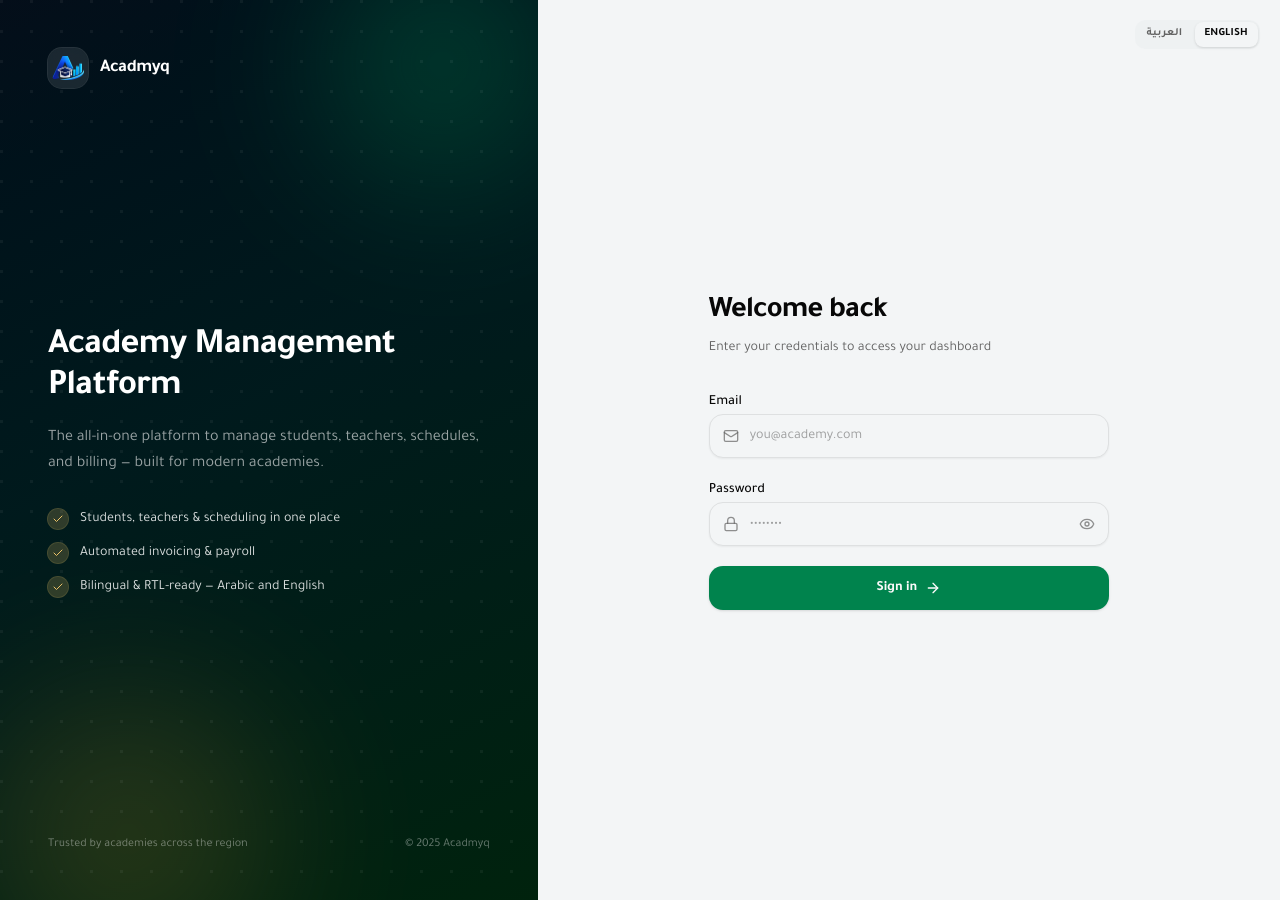
Test: LoginPage (TC-2.1 / TC-2.2) › shows a neutral error and does not redirect on bad credentials
The width and height of the screenshot is (1280, 900).
Type "owner@noor.test" into the field labelled "Email".
click(909, 436); type("owner@noor.test")  # box [709,414,1109,458]
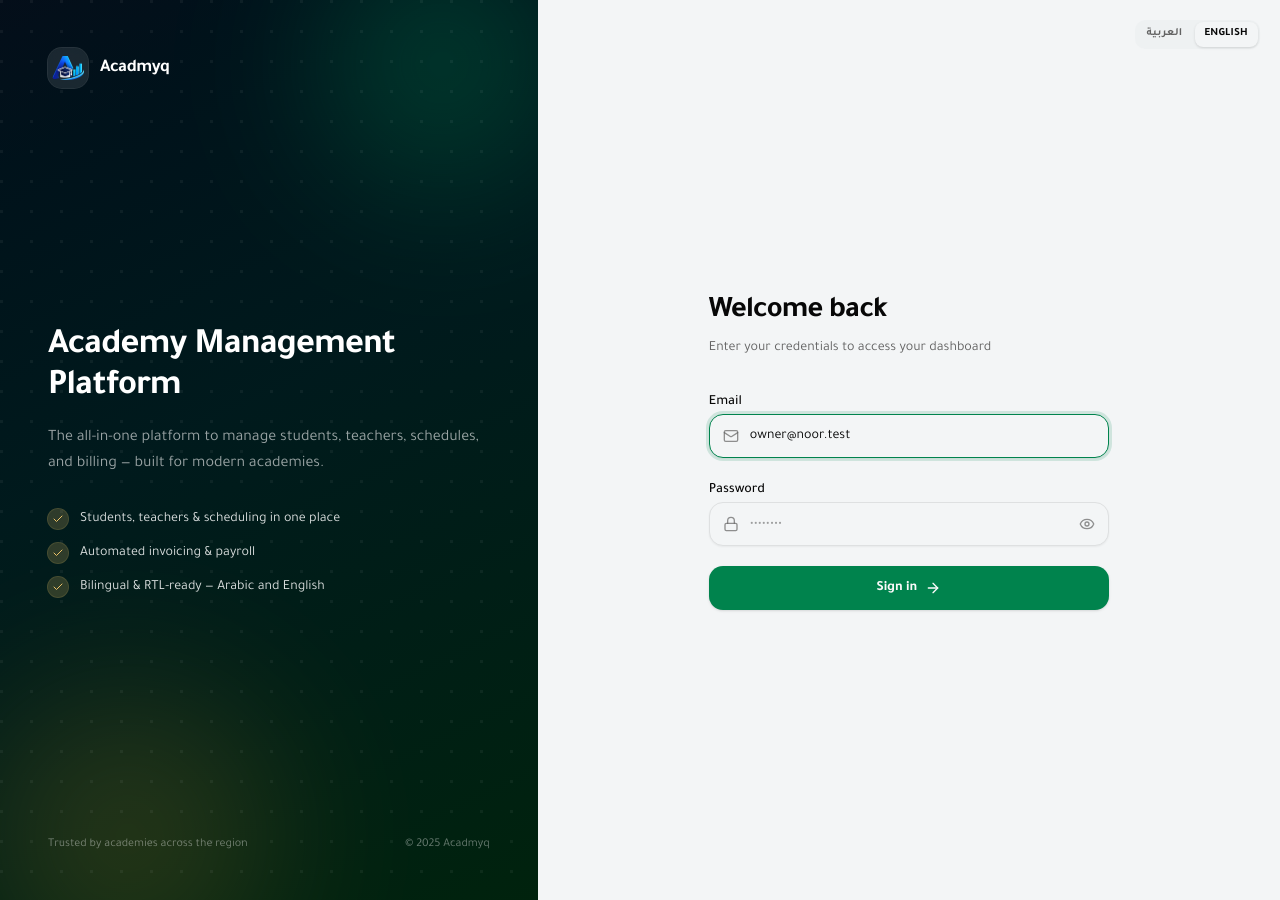
Type "wrong" into the password field labelled "Password".
click(909, 524); type("wrong")  # box [709,502,1109,546]
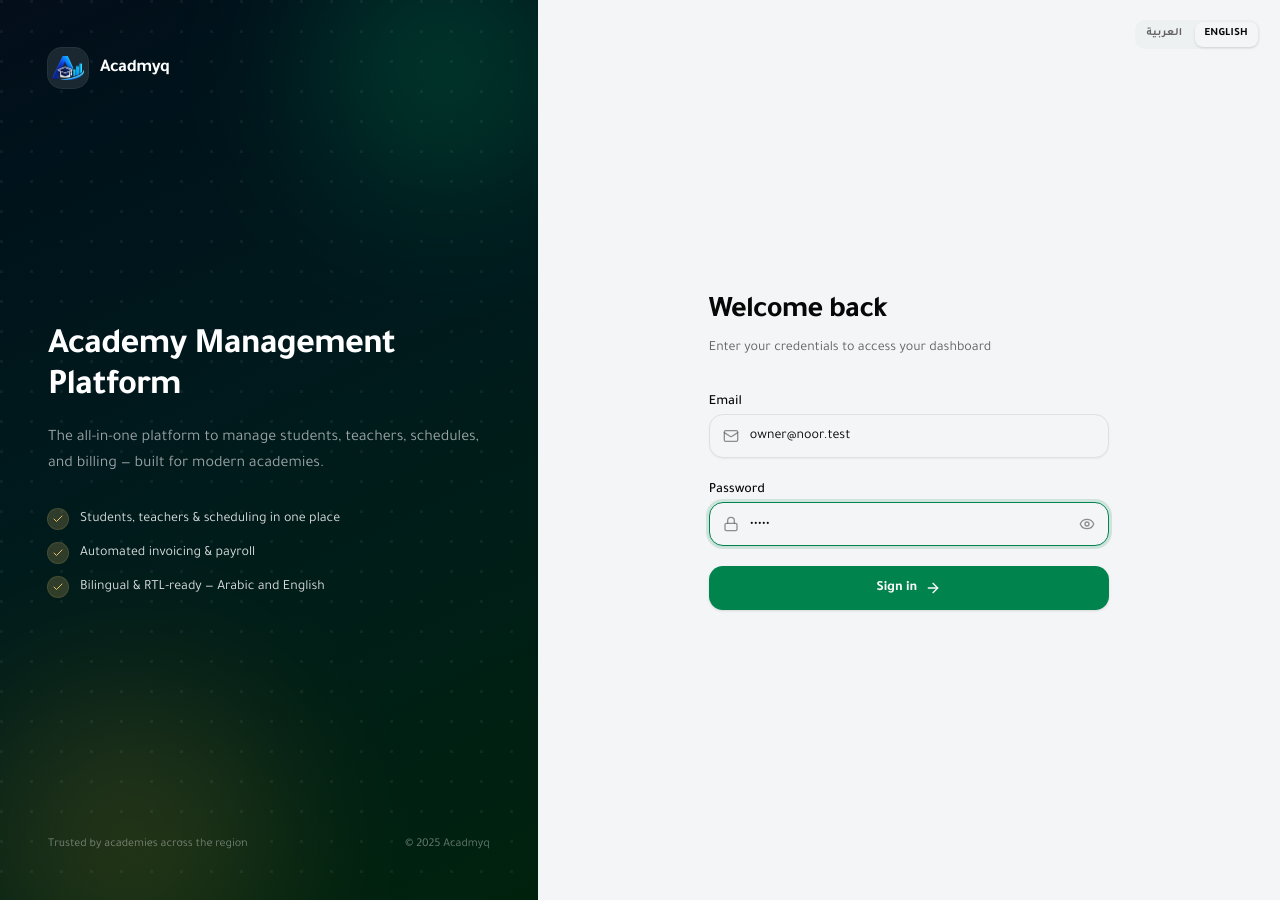
Click the button "Sign in".
click(909, 588)  # box [709,566,1109,610]
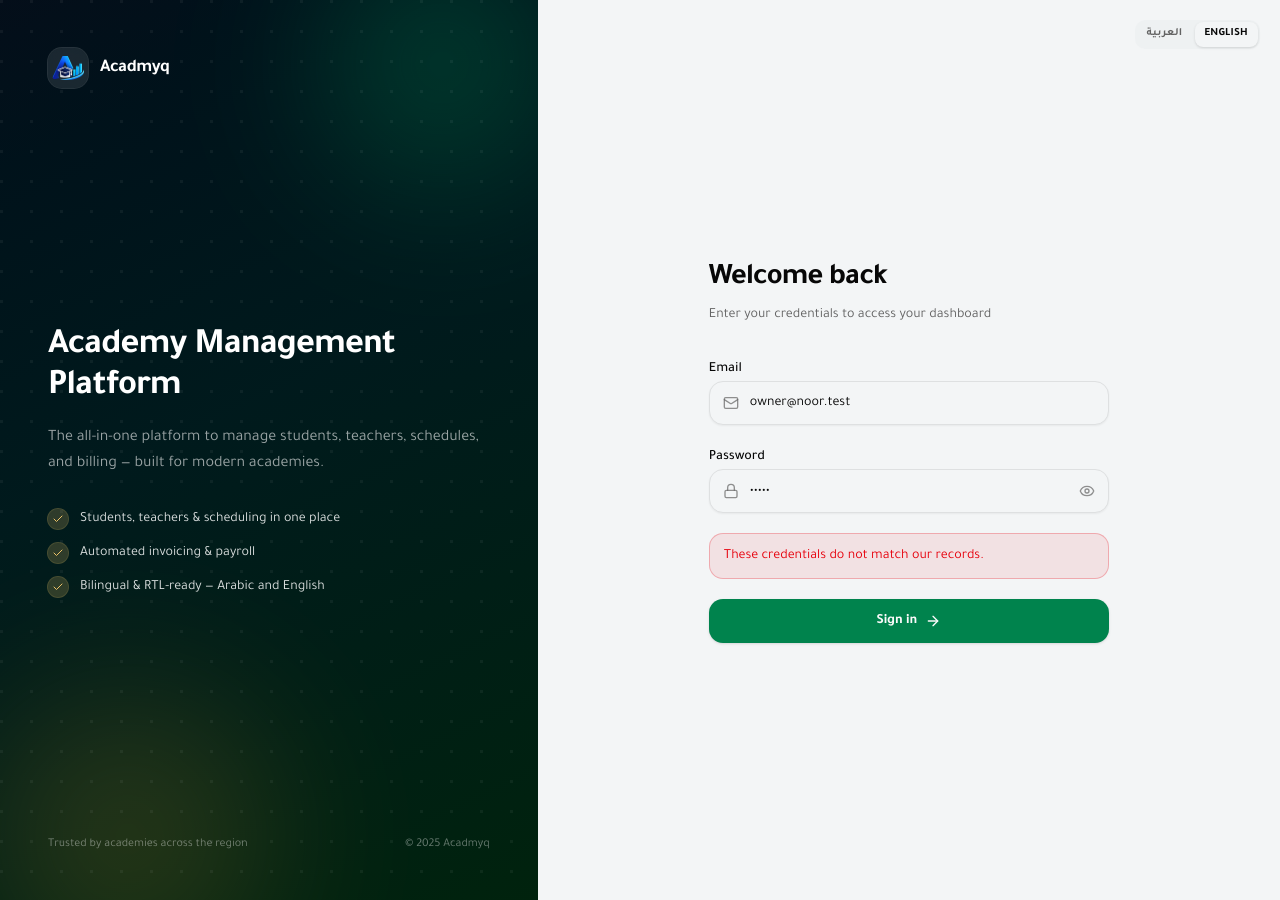
Result: the message reads "These credentials do not match our records." at [724,549,984,563]
